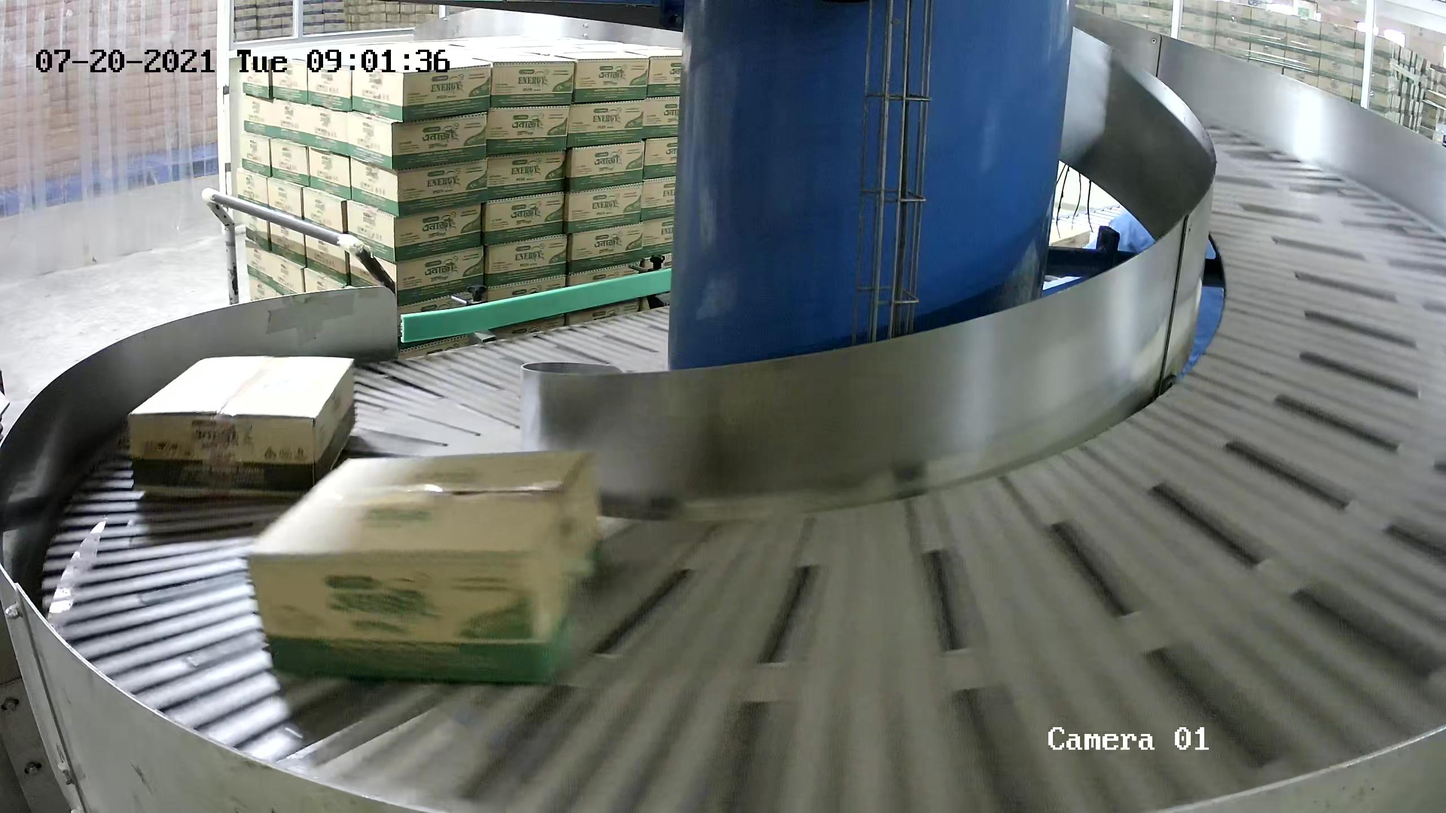Box: (244, 444, 608, 686), (126, 354, 357, 501)
